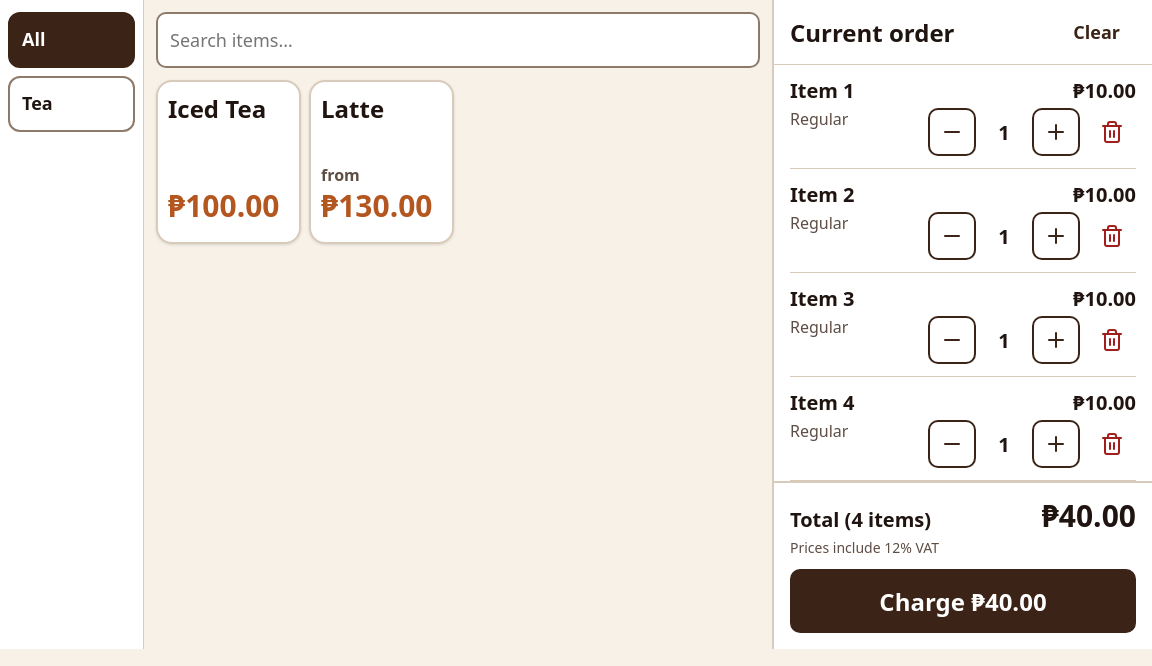
Test: PosPage › clear order › asks "Clear all?" first when the order has more than 3 lines; Keep leaves it alone
Click the button "Clear".
click(1097, 32)  # box [1057,8,1136,56]
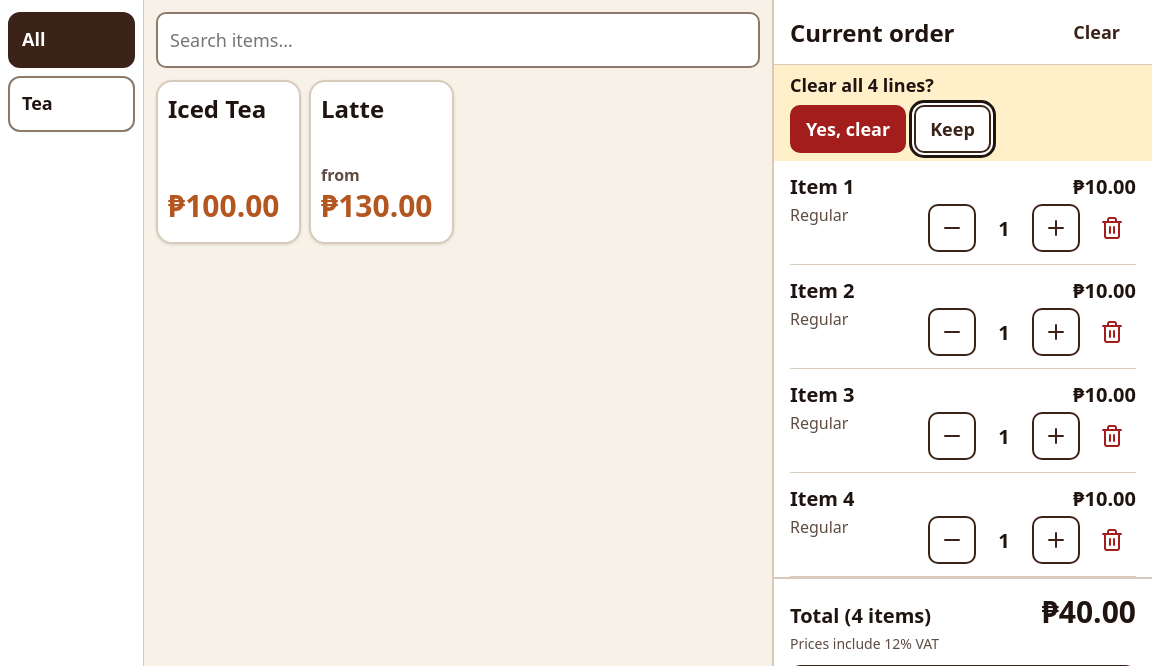
Expected: the element named "Confirm clearing the order" shows "Clear all 4 lines?", [774,65,1151,161]
Click the button "Keep".
click(952, 129)  # box [914,105,991,153]
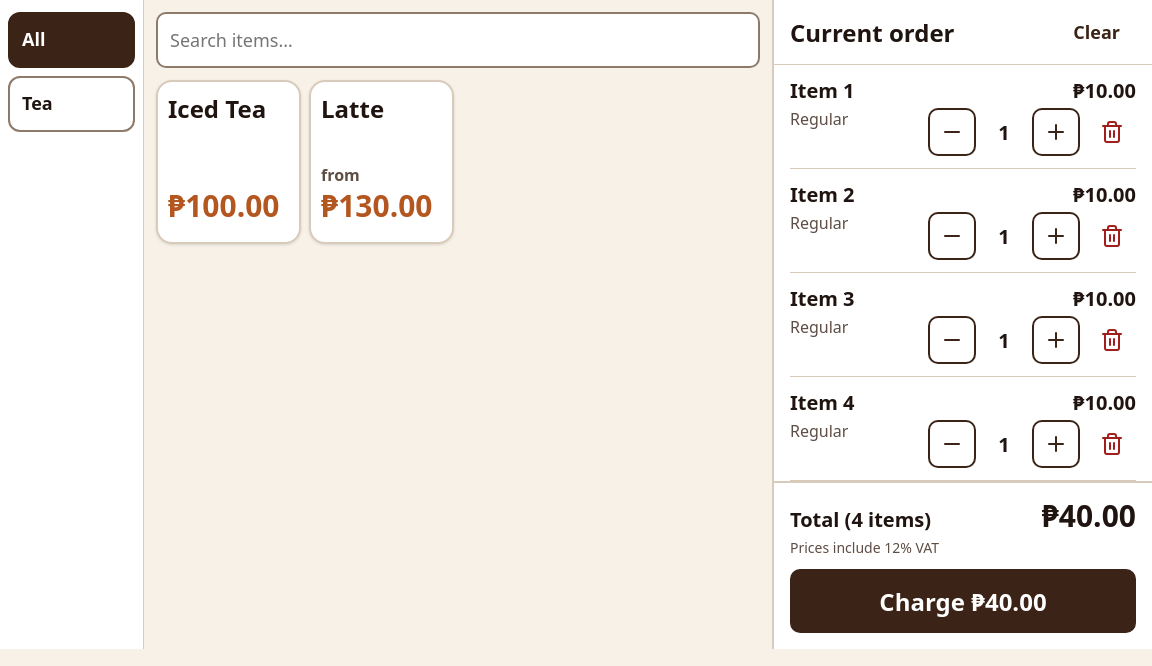
Click the button "Clear".
click(1097, 32)  # box [1057,8,1136,56]
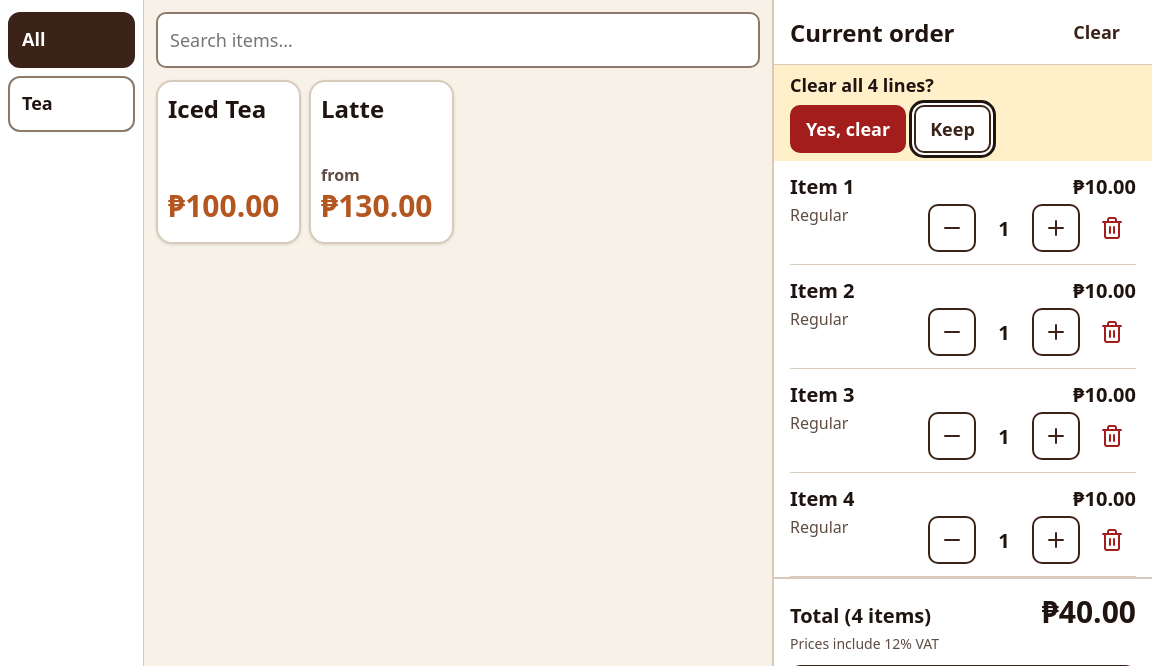
Click the button "Yes, clear".
click(848, 129)  # box [790,105,906,153]
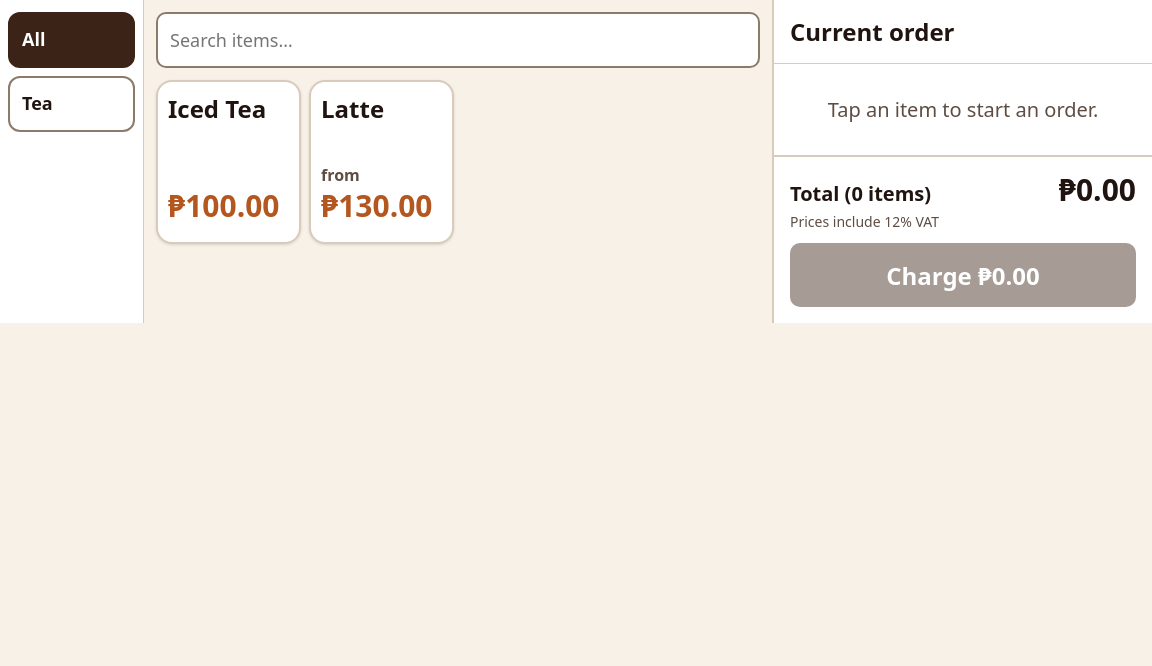
Expected: the text "Tap an item to start an order." is shown, [828,96,1098,123]
